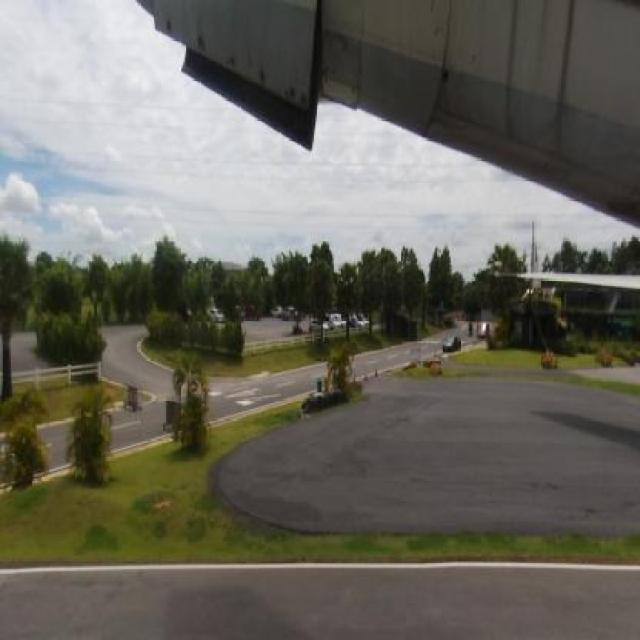Rust: (432, 20, 479, 155), (492, 1, 530, 144), (550, 1, 581, 168), (159, 10, 190, 36), (253, 54, 270, 88), (224, 42, 239, 76), (197, 26, 211, 57)
Scartch: (286, 82, 322, 122)
